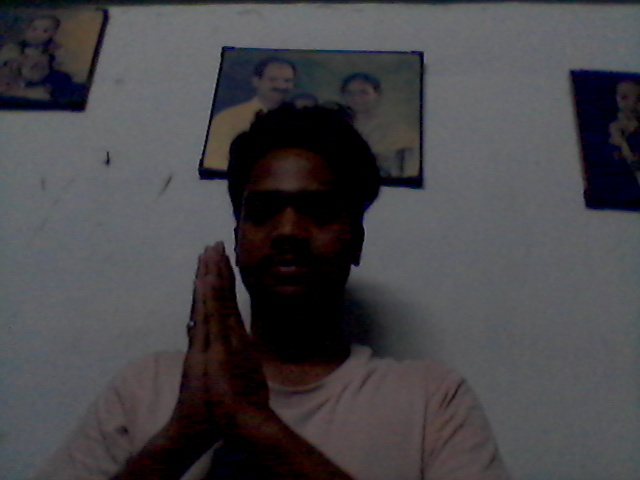Namasthe: (145, 237, 287, 461)
